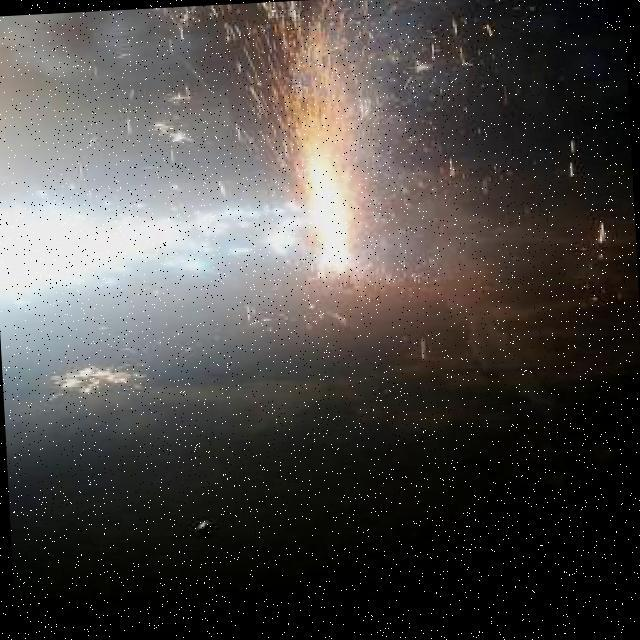Fire: (198, 0, 478, 320)
